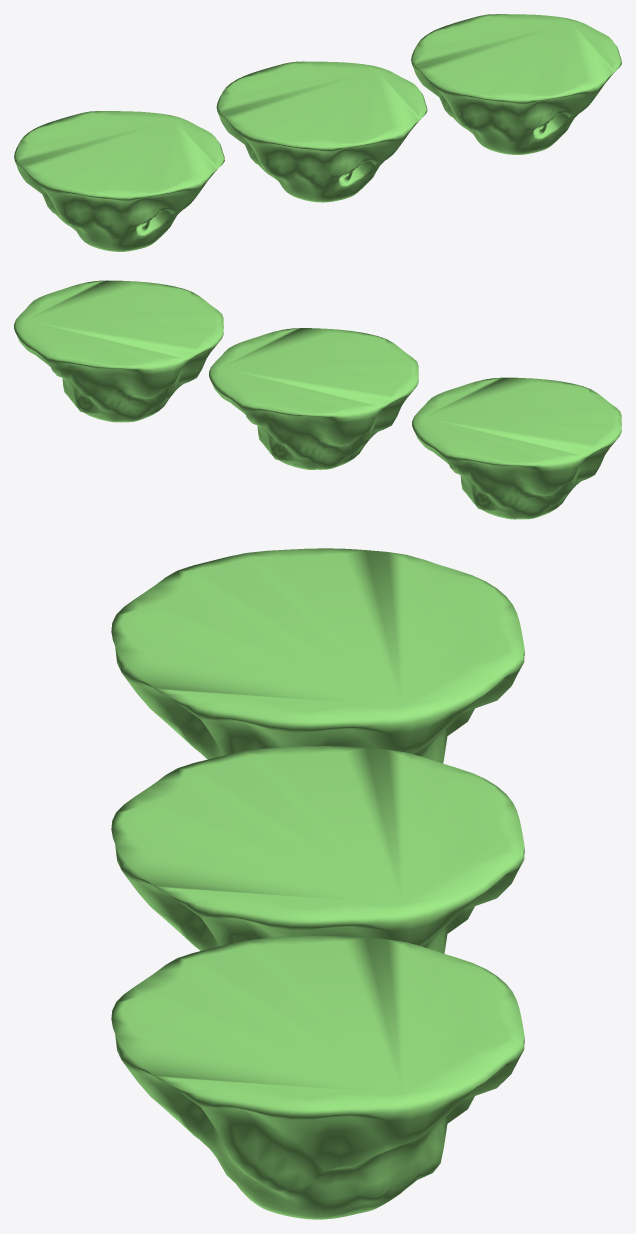
The model's file is mesaDados.obj.
3 renders of one model, top to bottom at view 1: azimuth 30°, elevation 25°; view 2: azimuth 150°, elevation 25°; view 3: azimuth 270°, elevation 25°, orthographic. The views are drawn at different scales.
Parts seen in each view (by area): view 1: Slime, Slime.002, Slime.001; view 2: Slime.001, Slime.002, Slime; view 3: Slime.002, Slime.001, Slime.
Part boxes in pixels (bbox=[...]): Slime: bbox=[216, 61, 427, 202]; Slime.002: bbox=[411, 14, 621, 154]; Slime.001: bbox=[14, 111, 224, 251]; Slime.001: bbox=[412, 377, 621, 519]; Slime.002: bbox=[14, 280, 223, 422]; Slime: bbox=[209, 328, 418, 469]; Slime.002: bbox=[111, 936, 524, 1219]; Slime.001: bbox=[111, 548, 524, 763]; Slime: bbox=[111, 746, 524, 953].
Size of the model in its own units: 170 by 23.42 by 52.77.
Materials: 1 (1 with a texture image).
